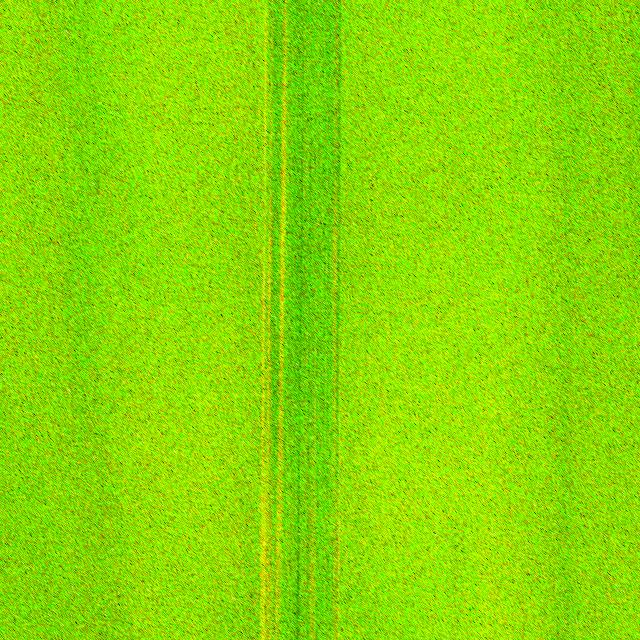BLS: (275, 0, 286, 640), (332, 0, 338, 596), (267, 152, 272, 640), (261, 463, 265, 640), (311, 463, 315, 640), (266, 0, 266, 10)
